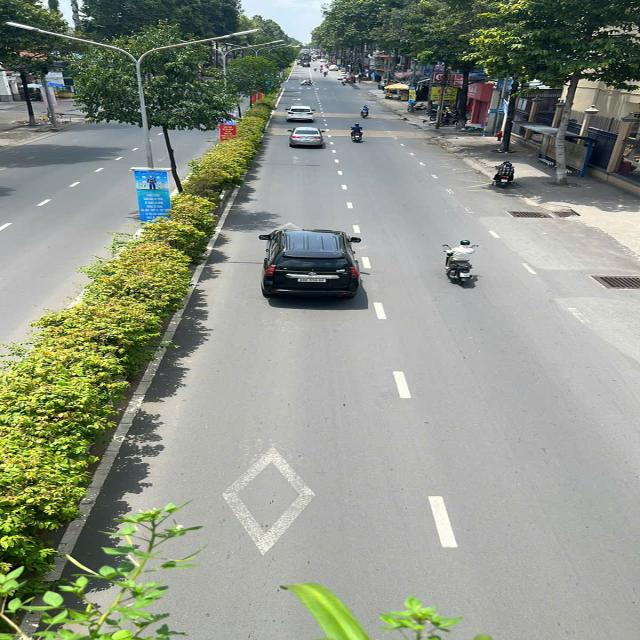car: (255, 226, 365, 304), (285, 122, 329, 150), (283, 102, 319, 124)
motobyte: (440, 237, 482, 289), (486, 158, 521, 192), (346, 120, 368, 146), (358, 100, 376, 120)
